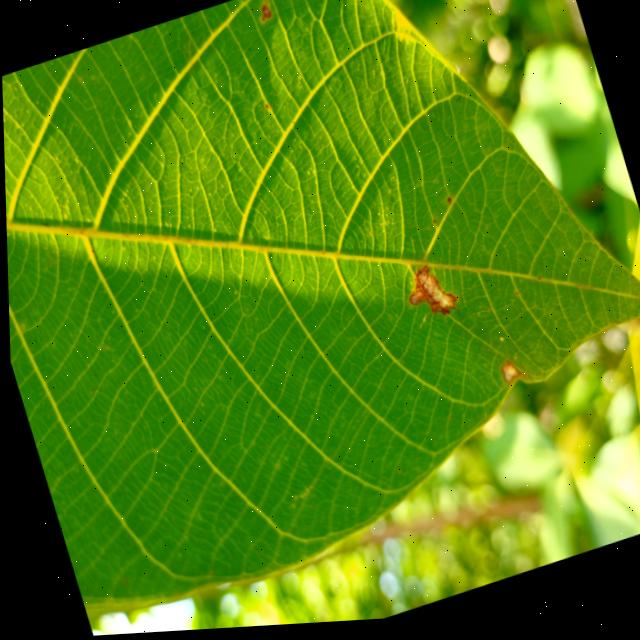Colletotrichum: (445, 200, 450, 207)
Leaf-Blight: (398, 263, 456, 323), (496, 366, 518, 391)
